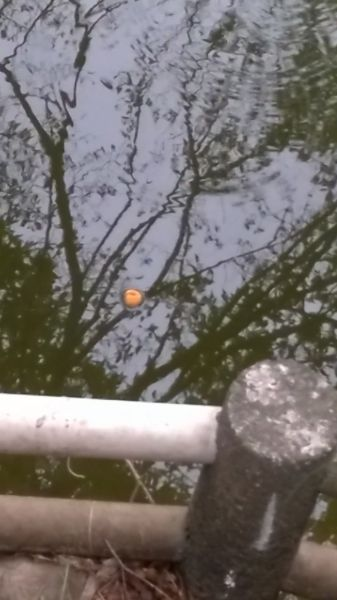eggs: (120, 284, 148, 311)
